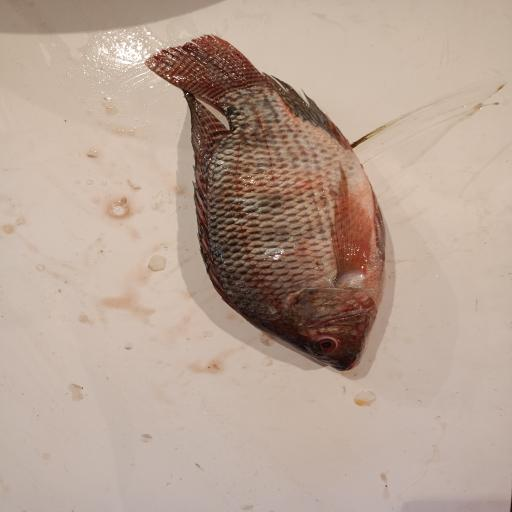Tilapia: (144, 33, 507, 372)
